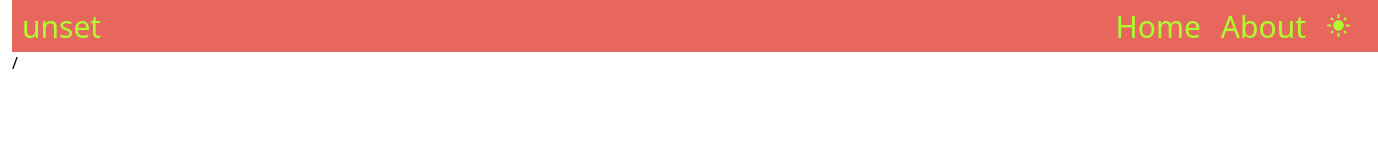
it: Navbar › navigates to /about when {} is clicked
The width and height of the screenshot is (1378, 160).
Click the link "About": (1263, 26) [1221,6,1306,46]
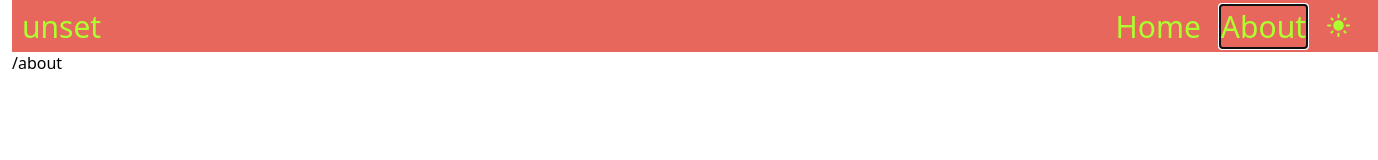
Result: the text with test id "location" reads "/about" at [12,52,62,74]
